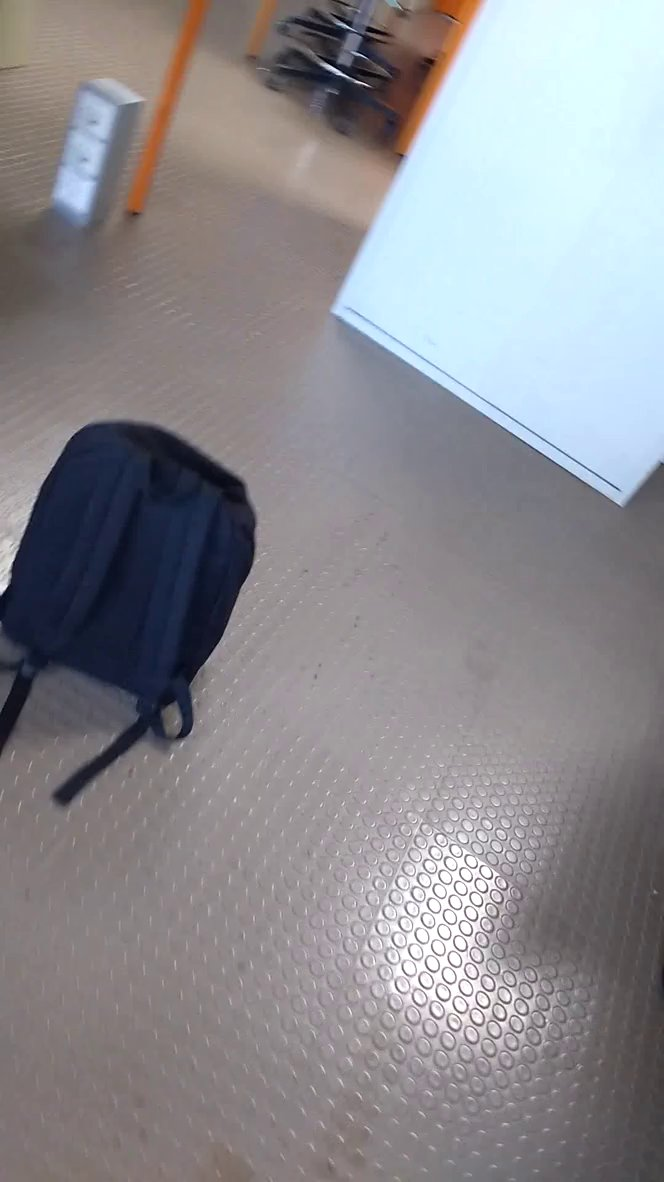bag: (1, 403, 264, 819)
